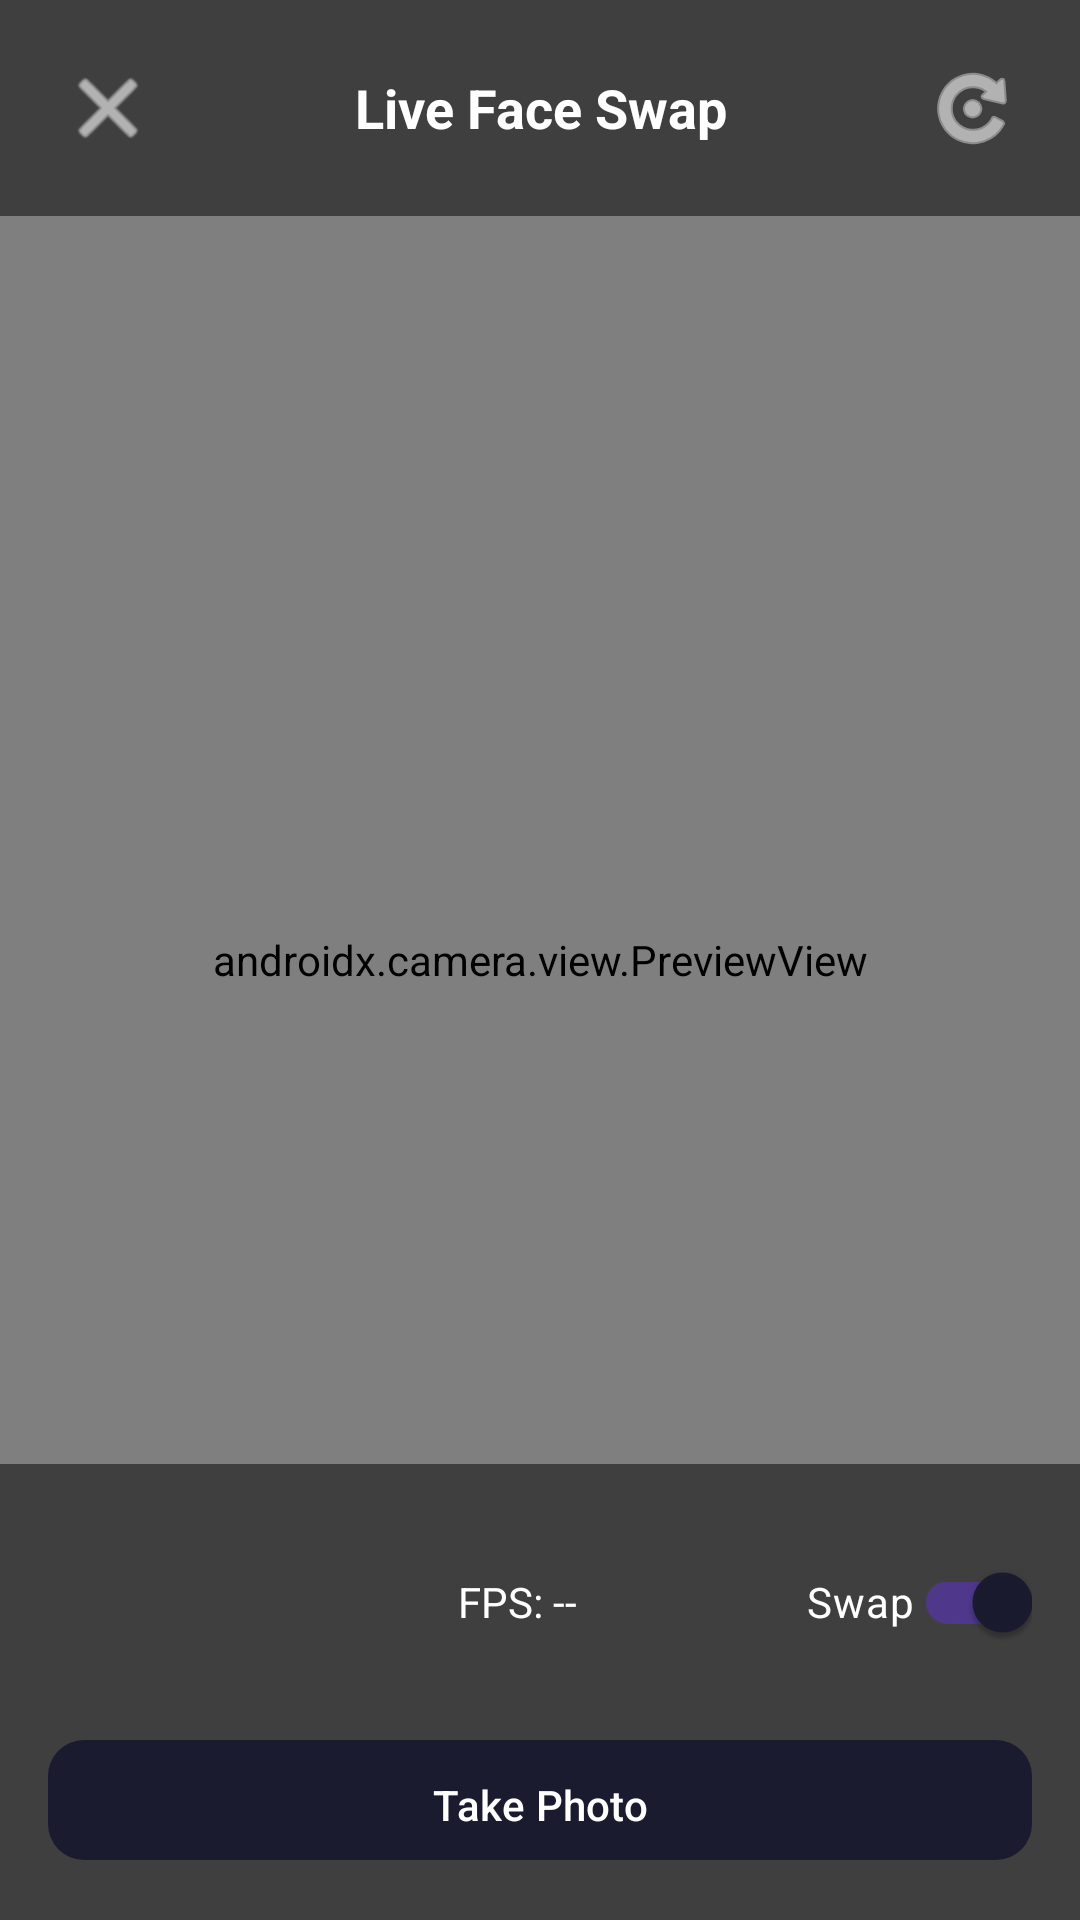

Icons on this 1080w x 1920h Android screen, each with the point to tap as (x=x, y=y):
Back: (x=108, y=108)
Switch Camera: (x=972, y=108)
